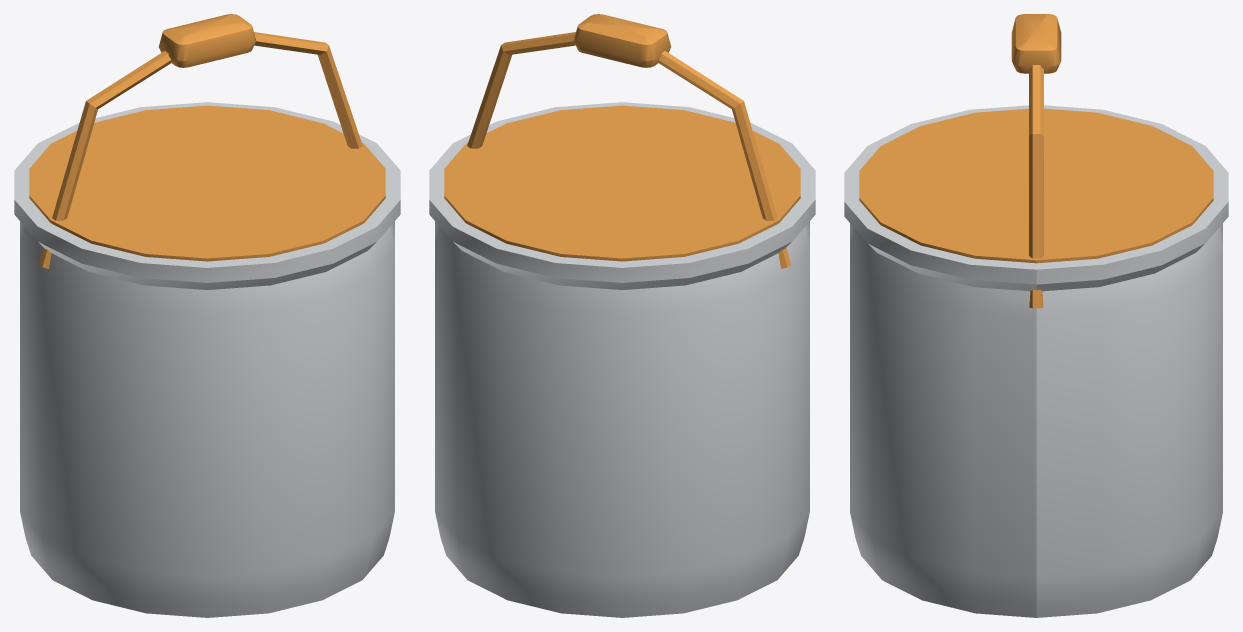
3 views of the same model, side by side, from view 1: azimuth 30°, elevation 25°; view 2: azimuth 150°, elevation 25°; view 3: azimuth 270°, elevation 25° (orthographic).
Visible parts, largest first — view 1: paint-tin-5l; view 2: paint-tin-5l; view 3: paint-tin-5l.
Boxes of the visible parts, x1,y1,x2,y2 form: paint-tin-5l: (14,14,400,617); paint-tin-5l: (429,14,815,617); paint-tin-5l: (844,14,1228,617).
Size of the model in its own units: 0.2369 by 0.344 by 0.2333.
